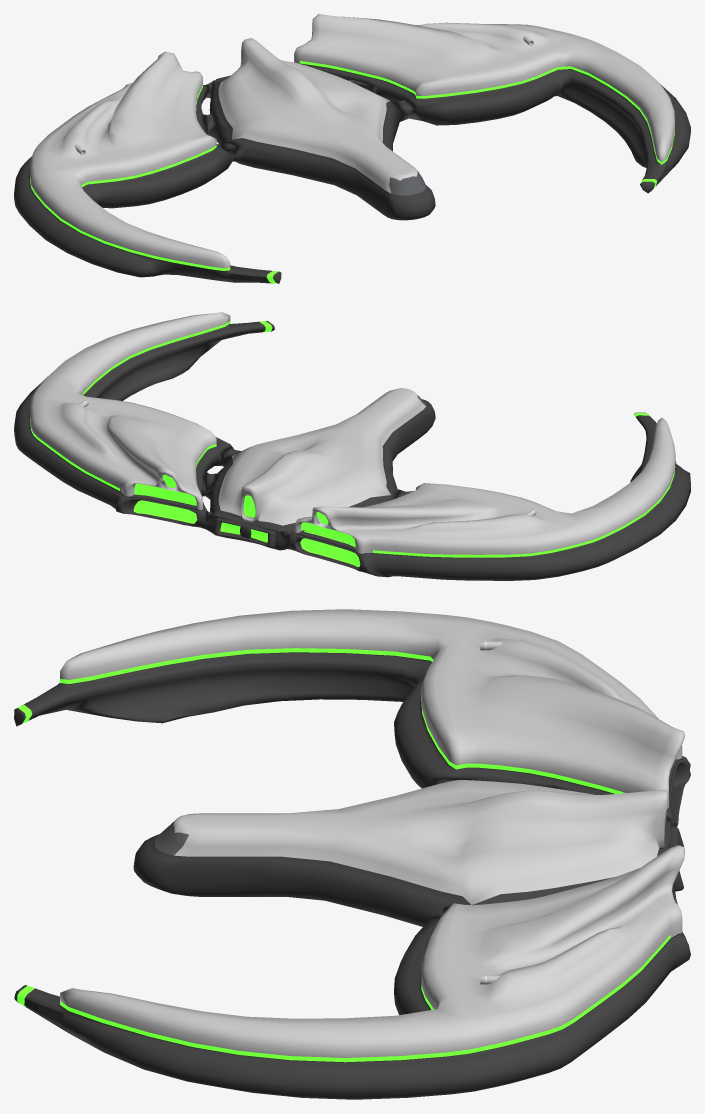
File: spaceship.fbx
3 views of the same model, one above another, from view 1: azimuth 30°, elevation 25°; view 2: azimuth 150°, elevation 25°; view 3: azimuth 270°, elevation 25° (orthographic). The views are drawn at different scales.
Visible parts, largest first — view 1: Plane; view 2: Plane; view 3: Plane.
Part boxes in pixels (x1,y1,x2,y2): Plane: (14, 14, 690, 283); Plane: (14, 312, 690, 580); Plane: (14, 609, 690, 1099).
Bounding box in the file's own units: 171 × 20.54 × 107.
